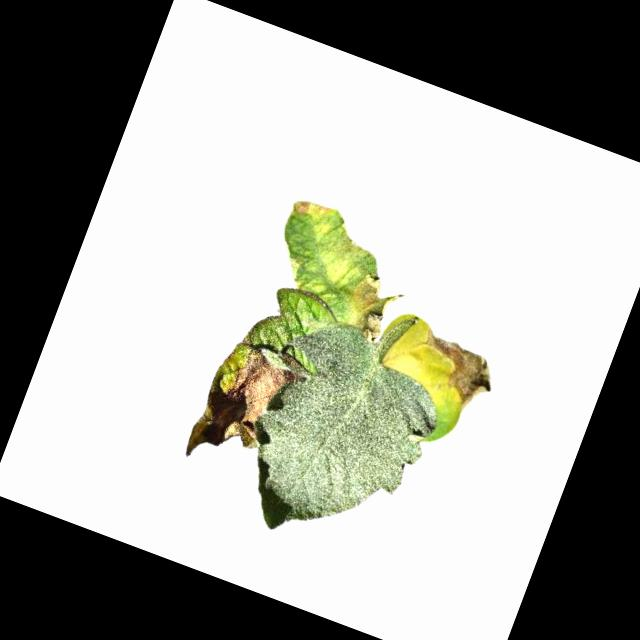Late_blight: (211, 340, 298, 454), (405, 326, 506, 416), (335, 266, 410, 348), (289, 192, 334, 227)
